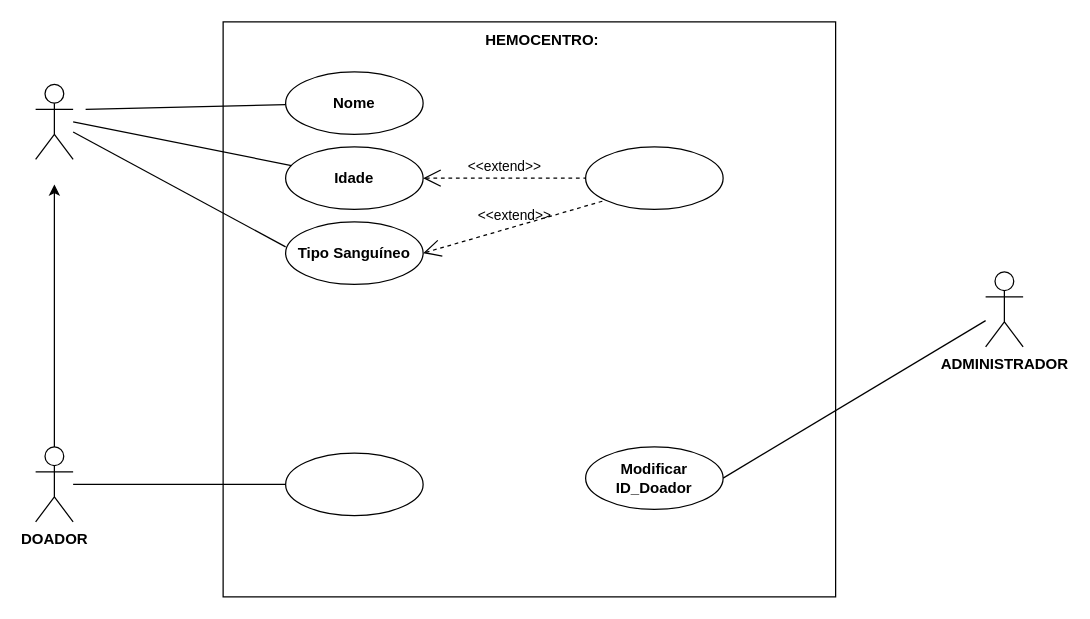
Some shapes in this 1090 by 619 pixel diagram are drawn without their labels. Each missing label, with the centre of its shape:
"ID_Doador" belongs at (x=353, y=484).
"Modificar" belongs at (x=653, y=177).
"PESSOA" belongs at (x=53, y=121).
